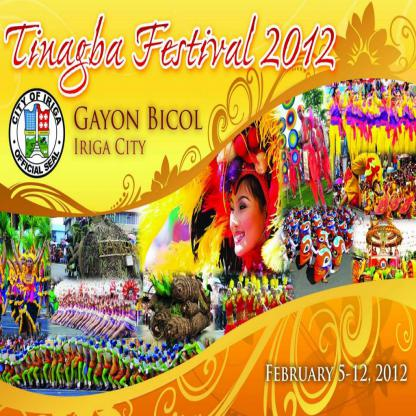face: (230, 182, 265, 256), (28, 258, 33, 270), (22, 258, 27, 269), (298, 110, 303, 121), (15, 259, 20, 269), (384, 93, 389, 102), (355, 94, 359, 103), (130, 291, 134, 299), (337, 91, 341, 99), (351, 92, 355, 100), (238, 285, 241, 293), (263, 288, 266, 296), (131, 352, 134, 359), (228, 291, 231, 298), (249, 285, 252, 292), (258, 294, 261, 301), (274, 292, 277, 299), (272, 289, 275, 295), (146, 357, 149, 363), (146, 347, 149, 352), (169, 354, 172, 359), (154, 358, 157, 363), (162, 347, 165, 352), (284, 289, 286, 295), (358, 79, 361, 83), (386, 157, 388, 161), (369, 184, 371, 188), (348, 82, 350, 86)
